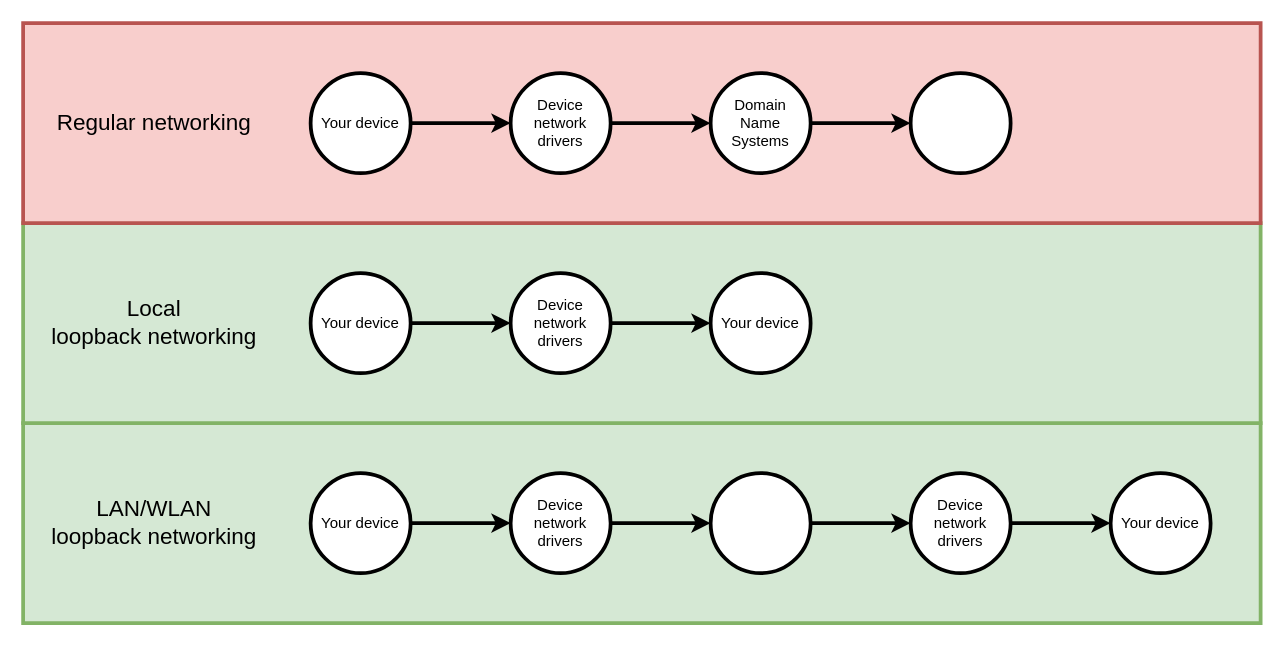
Some shapes in this 1284 by 646 pixel diagram are drawn without their labels. Each missing label, with the centre of its shape:
"Local network router" goes at (760,522).
"Some device elsewhere in the world" goes at (960,122).
